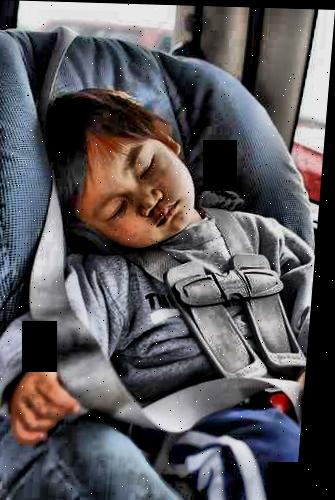seatbelt: (23, 142, 278, 433)
